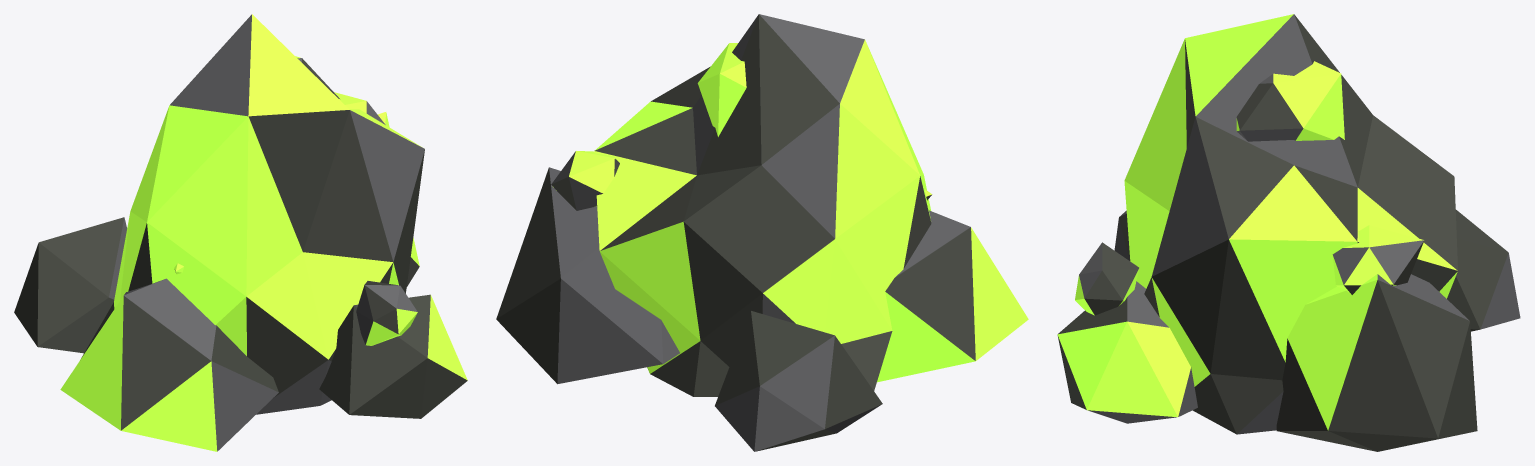
File: uranium_ore_c.glb
3 views of the same model, side by side, from view 1: azimuth 30°, elevation 25°; view 2: azimuth 150°, elevation 25°; view 3: azimuth 270°, elevation 25° (orthographic). The views are drawn at different scales.
Parts seen in each view (by area): view 1: uranium_ore_c; view 2: uranium_ore_c; view 3: uranium_ore_c.
Part boxes in pixels (<box>): uranium_ore_c: <box>14,14,467,451</box>; uranium_ore_c: <box>496,14,1028,451</box>; uranium_ore_c: <box>1057,14,1520,451</box>.
Size of the model in its own units: 1.17 by 0.9447 by 1.11.
